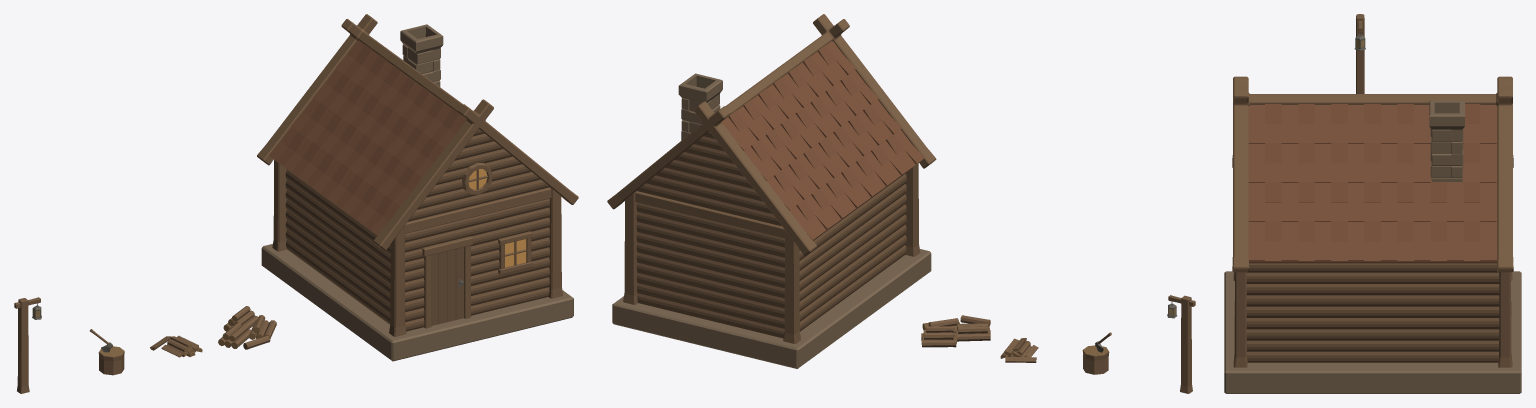
Rendered from winter-wooden-house-1.fbx.
3 views of the same model, side by side, from view 1: azimuth 30°, elevation 25°; view 2: azimuth 150°, elevation 25°; view 3: azimuth 270°, elevation 25° (orthographic). The views are drawn at different scales.
Parts seen in each view (by area): view 1: House, LogsPack, Lamppost, Log, HalfLogs; view 2: House, LogsPack, Lamppost, Log, HalfLogs; view 3: House, Lamppost.
Part boxes in pixels (x1=…): House: x1=257, y1=14, x2=578, y2=361; LogsPack: x1=218, y1=306, x2=276, y2=349; Lamppost: x1=14, y1=297, x2=41, y2=393; Log: x1=90, y1=329, x2=124, y2=375; HalfLogs: x1=150, y1=335, x2=202, y2=357; House: x1=607, y1=14, x2=936, y2=368; LogsPack: x1=921, y1=315, x2=990, y2=347; Lamppost: x1=1167, y1=295, x2=1195, y2=393; Log: x1=1082, y1=332, x2=1111, y2=374; HalfLogs: x1=1000, y1=338, x2=1038, y2=362; House: x1=1224, y1=76, x2=1521, y2=393; Lamppost: x1=1354, y1=14, x2=1365, y2=93.
Bounding box in the file's own units: 1427 × 620 × 639.
